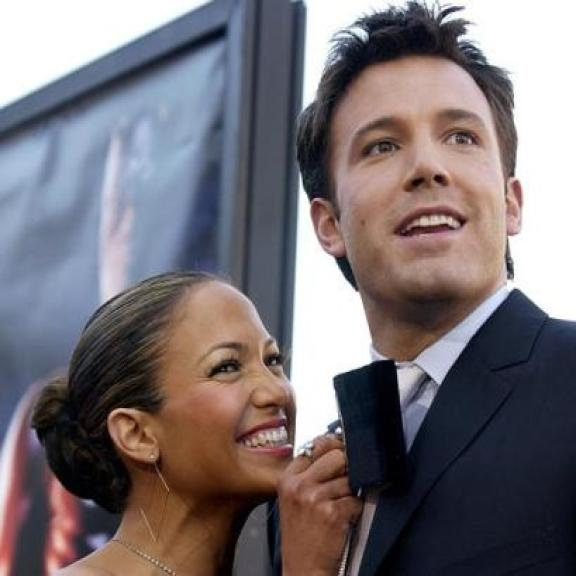face: (305, 55, 528, 300), (107, 282, 302, 504)
